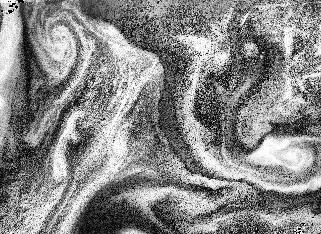CE: (29, 13, 92, 84), (256, 134, 319, 189)
